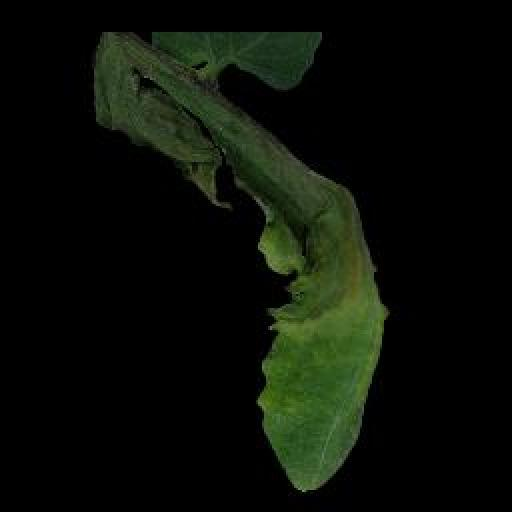Late Blight: (93, 28, 396, 493)
